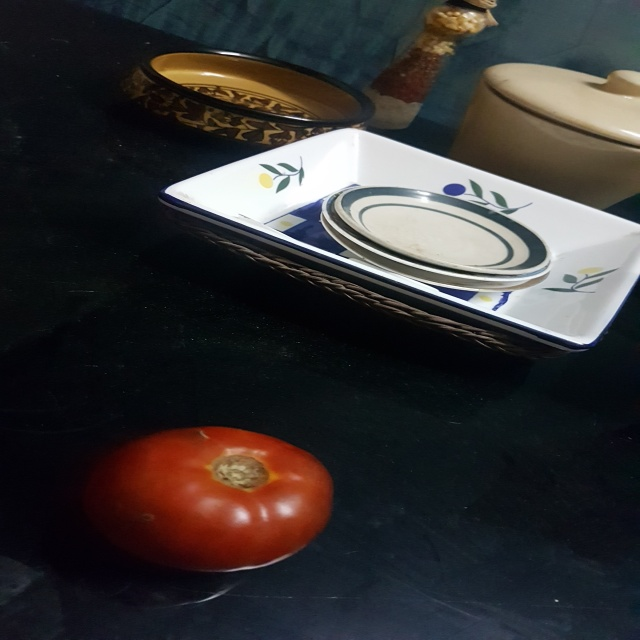tomato: (90, 406, 353, 591)
